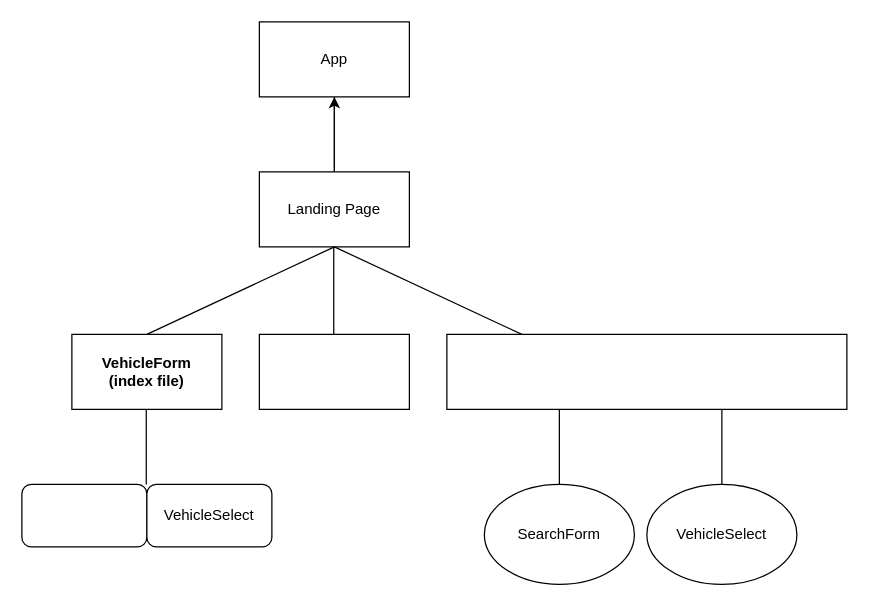
This 869x606 diagram has some shape labels left out. The centre of each missing label's shape, as x and y in pixels:
"DataList" belongs at (646,371).
"InputField" belongs at (84,515).
"RouteForm" belongs at (333,371).
